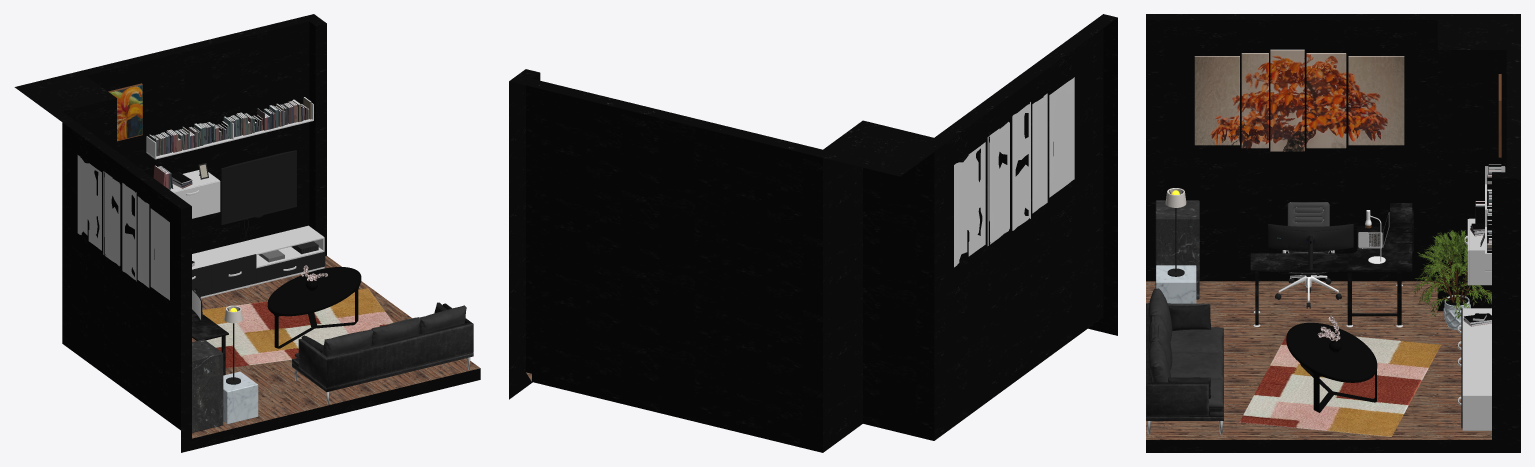
Rendered from comp_night_room.glb.
The picture shows the model from 3 angles, left to right: view 1: azimuth 30°, elevation 25°; view 2: azimuth 150°, elevation 25°; view 3: azimuth 270°, elevation 25°; orthographic projection. The views are drawn at different scales.
Parts seen in each view (by area): view 1: RoomA, Rug; view 2: RoomA, Rug; view 3: RoomA, Rug.
Boxes of the visible parts, x1,y1,x2,y2 form: RoomA: (14,14,480,452); Rug: (77,83,473,432); RoomA: (509,14,1117,452); Rug: (954,77,1074,267); RoomA: (1146,14,1520,452); Rug: (1146,49,1505,437).
Bounding box in the file's own units: 5.4 × 4.2 × 5.2.
Materials: 60 (22 with a texture image).
